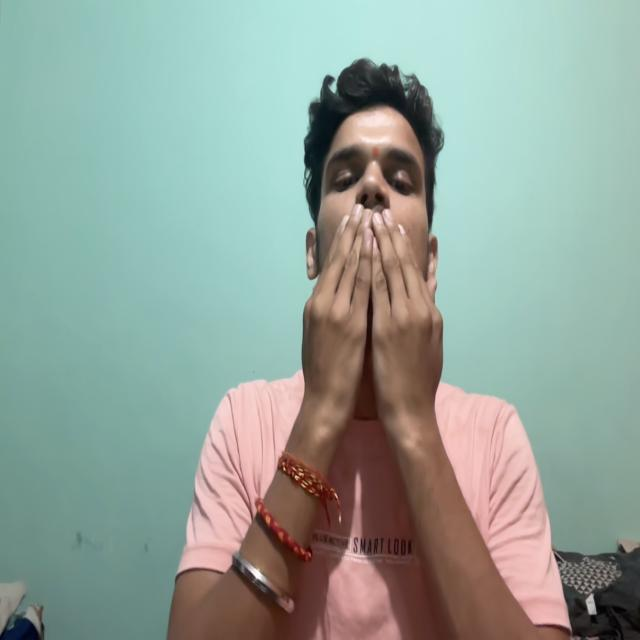Thanks: (292, 202, 468, 476)
